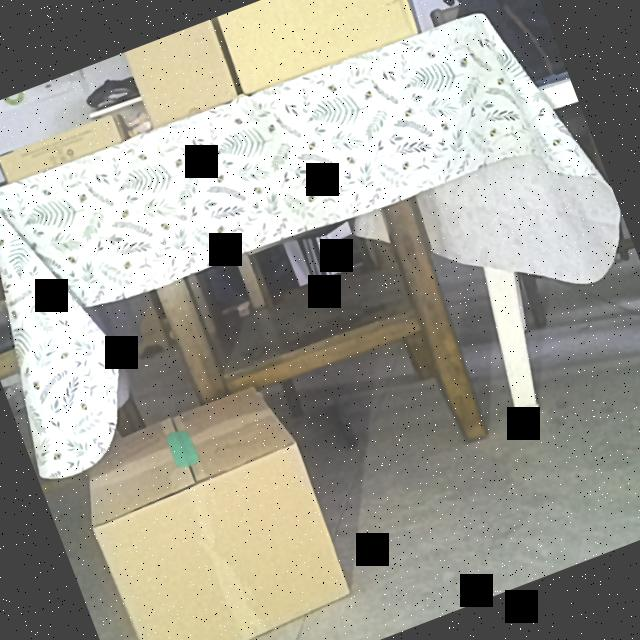box: (92, 448, 357, 640), (215, 0, 417, 96), (125, 20, 238, 128), (0, 111, 123, 185)
